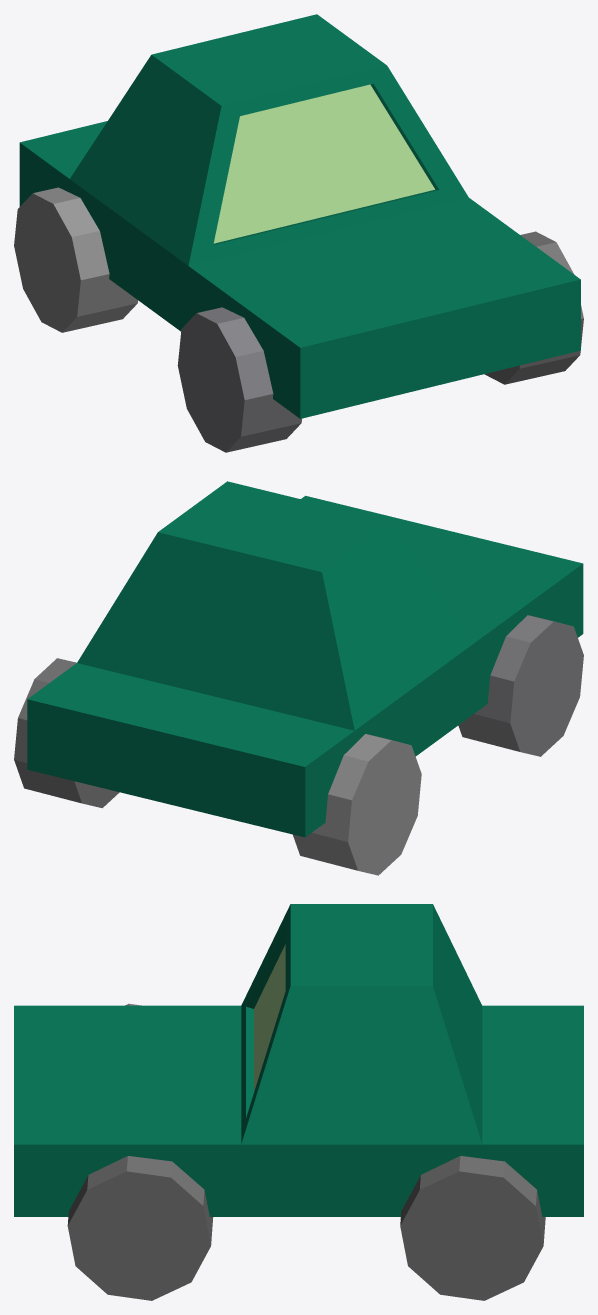
Rendered from carrito en 5 min.fbx.
The picture shows the model from 3 angles, top to bottom: view 1: azimuth 30°, elevation 25°; view 2: azimuth 150°, elevation 25°; view 3: azimuth 270°, elevation 25°; orthographic projection. The views are drawn at different scales.
Parts seen in each view (by area): view 1: Cube, Cylinder.002, Cylinder.003, Cylinder; view 2: Cube, Cylinder.003, Cylinder.002, Cylinder.001; view 3: Cube, Cylinder.001, Cylinder.
Boxes of the visible parts, bbox=[...] form: Cube: bbox=[19, 14, 580, 418]; Cylinder.002: bbox=[177, 307, 301, 452]; Cylinder.003: bbox=[14, 187, 137, 332]; Cylinder: bbox=[484, 231, 583, 384]; Cube: bbox=[27, 481, 583, 837]; Cylinder.003: bbox=[293, 734, 421, 875]; Cylinder.002: bbox=[458, 615, 583, 756]; Cylinder.001: bbox=[14, 658, 119, 808]; Cube: bbox=[14, 904, 583, 1216]; Cylinder.001: bbox=[400, 1156, 545, 1300]; Cylinder: bbox=[67, 1156, 213, 1300].
Bounding box in the file's own units: 340 × 254 × 484.
